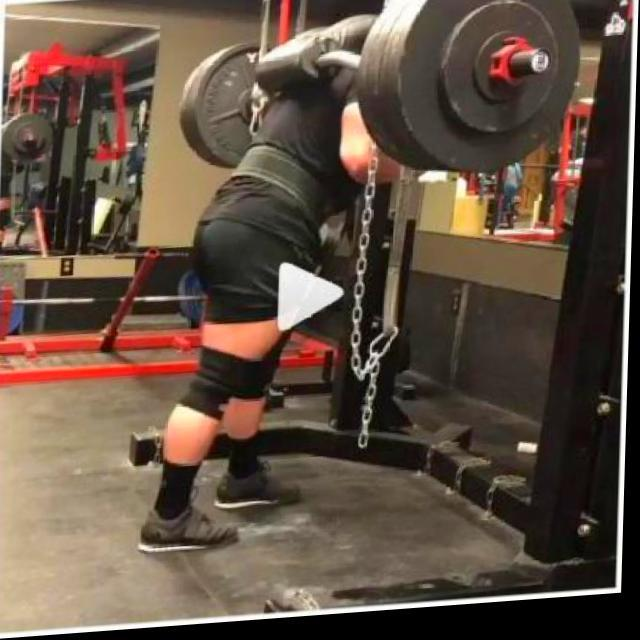barbell: (393, 1, 590, 192), (26, 131, 40, 145)
